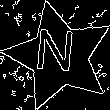N_S: (36, 30, 82, 83)
